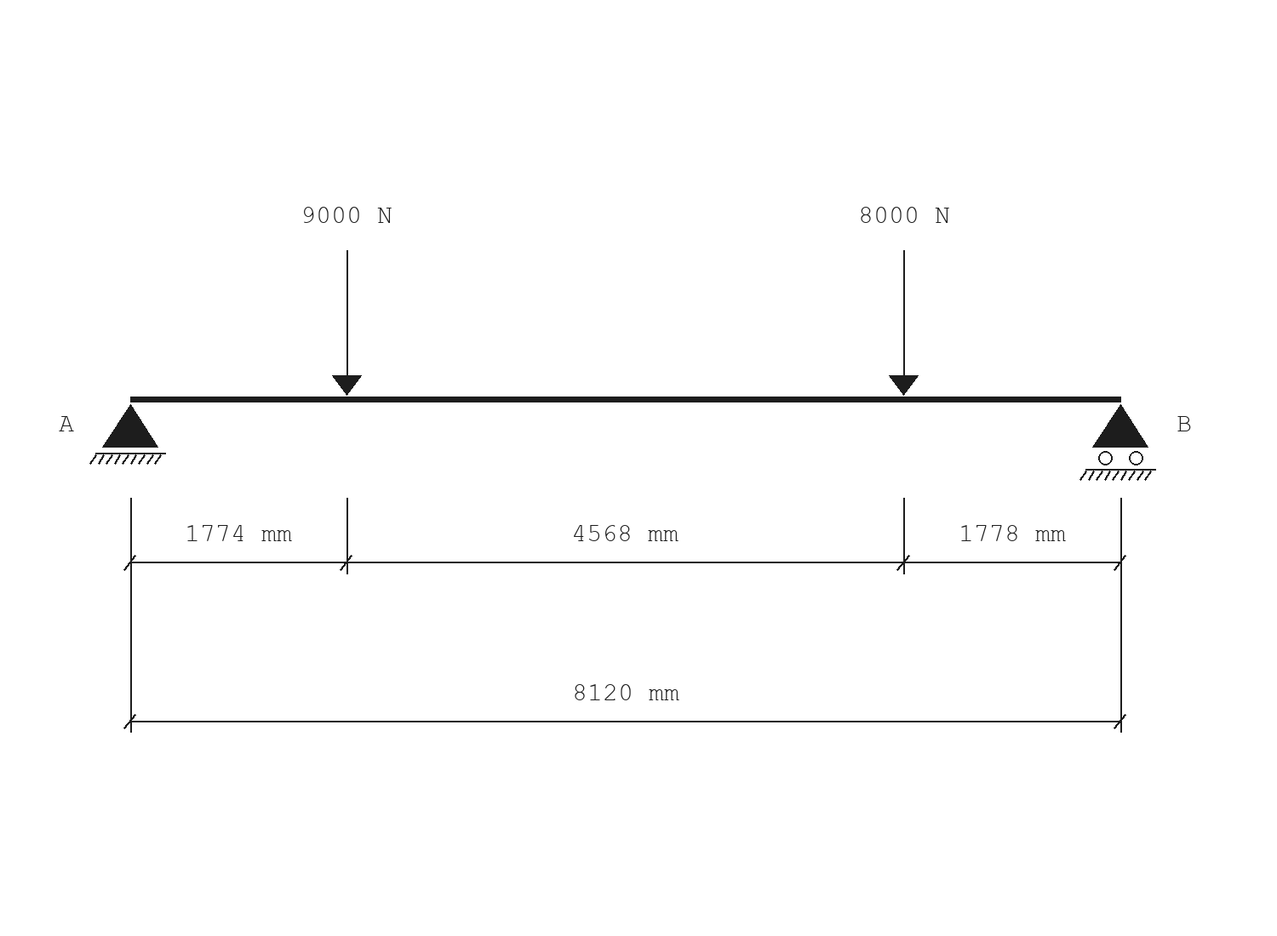pin_support: (89, 404, 166, 465)
point_load: (332, 250, 362, 396), (889, 250, 919, 396)
roller_support: (1079, 404, 1156, 481)
